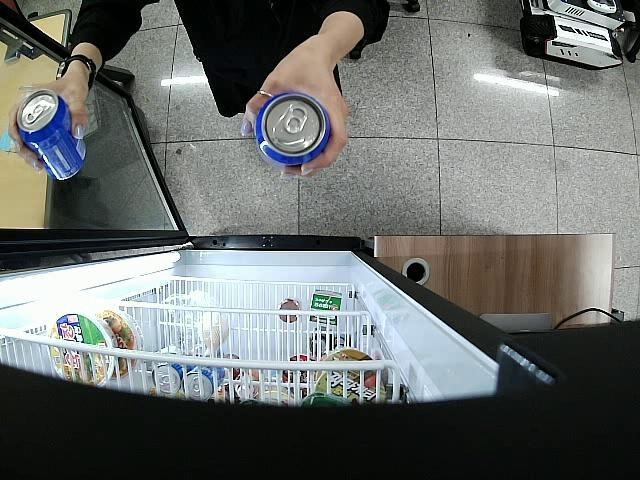13_pocariSweat: (16, 90, 86, 182), (256, 90, 332, 166)
